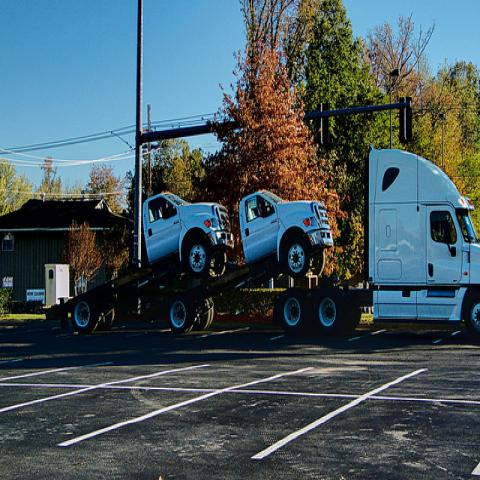truck: (200, 146, 480, 341), (44, 191, 236, 337), (147, 190, 334, 334)
